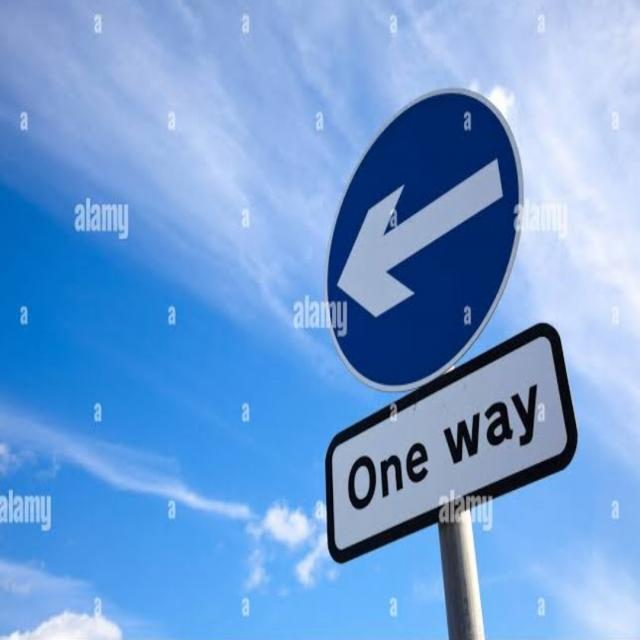Turn Left: (318, 87, 528, 390)
